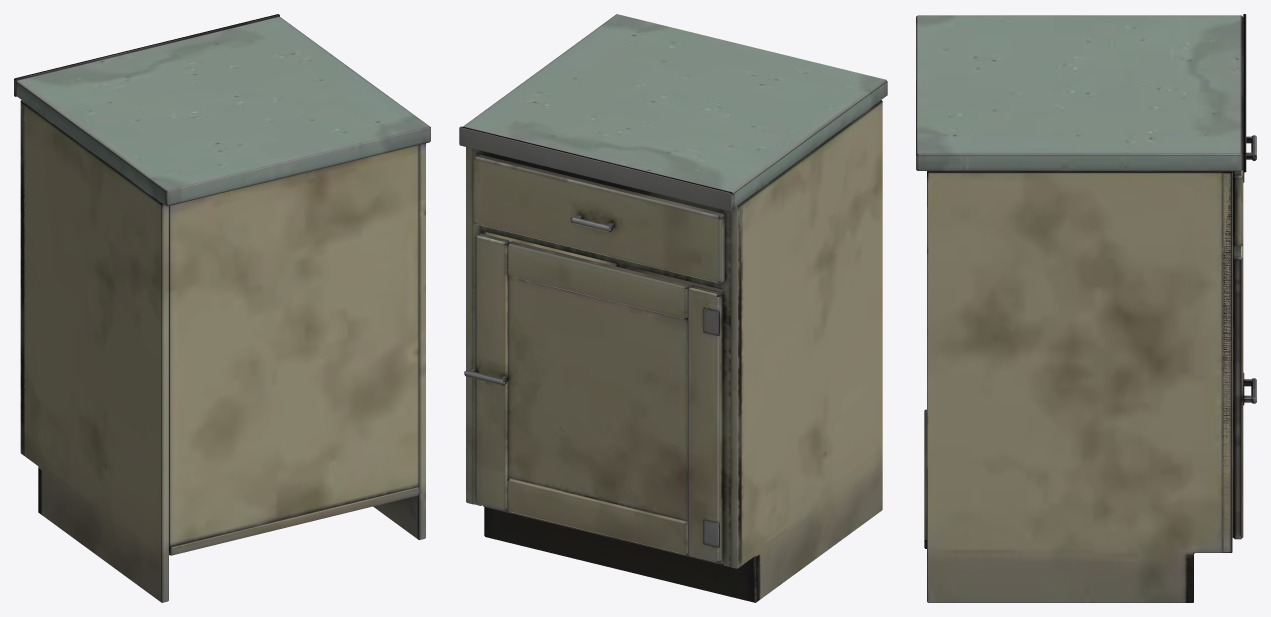
File: furniture_counter_module.glb
The picture shows the model from 3 angles, left to right: view 1: azimuth 30°, elevation 25°; view 2: azimuth 150°, elevation 25°; view 3: azimuth 270°, elevation 25°; orthographic projection. The views are drawn at different scales.
Visible parts, largest first — view 1: furniture_counter_module; view 2: furniture_counter_module; view 3: furniture_counter_module.
Boxes of the visible parts, left/top/right/bottom form: furniture_counter_module: left=14, top=14, right=430, bottom=602; furniture_counter_module: left=459, top=14, right=887, bottom=602; furniture_counter_module: left=916, top=14, right=1256, bottom=602.
Size of the model in its own units: 0.6 by 0.902 by 0.619.
1 material, 1 textured.
